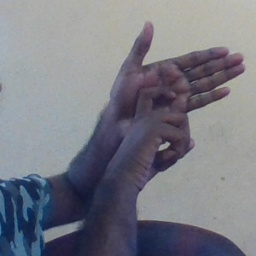R: (98, 18, 245, 173)
